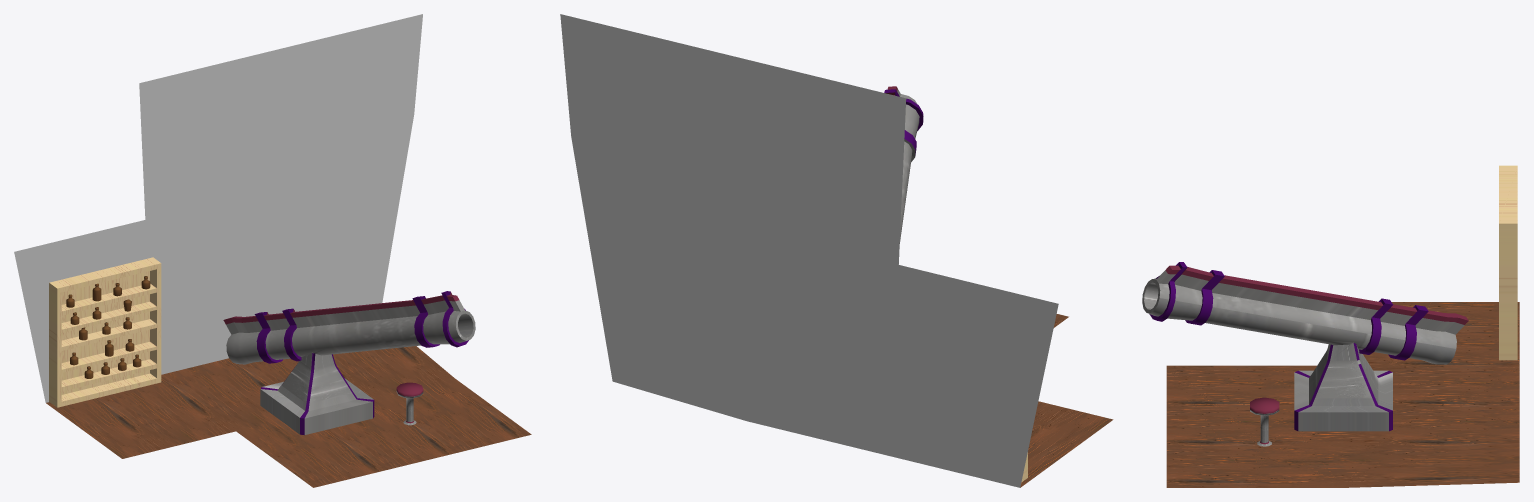
Rendered from zannahouse.fbx.
The picture shows the model from 3 angles, left to right: view 1: azimuth 30°, elevation 25°; view 2: azimuth 150°, elevation 25°; view 3: azimuth 270°, elevation 25°; orthographic projection. The views are drawn at different scales.
Visible parts, largest first — view 1: polySurface20; view 2: polySurface20; view 3: polySurface20.
Boxes of the visible parts, bbox=[...] form: polySurface20: bbox=[14, 14, 531, 487]; polySurface20: bbox=[560, 14, 1113, 487]; polySurface20: bbox=[1142, 165, 1519, 487].
Size of the model in its own units: 10.78 by 7.48 by 7.52.
7 materials, 3 textured.
